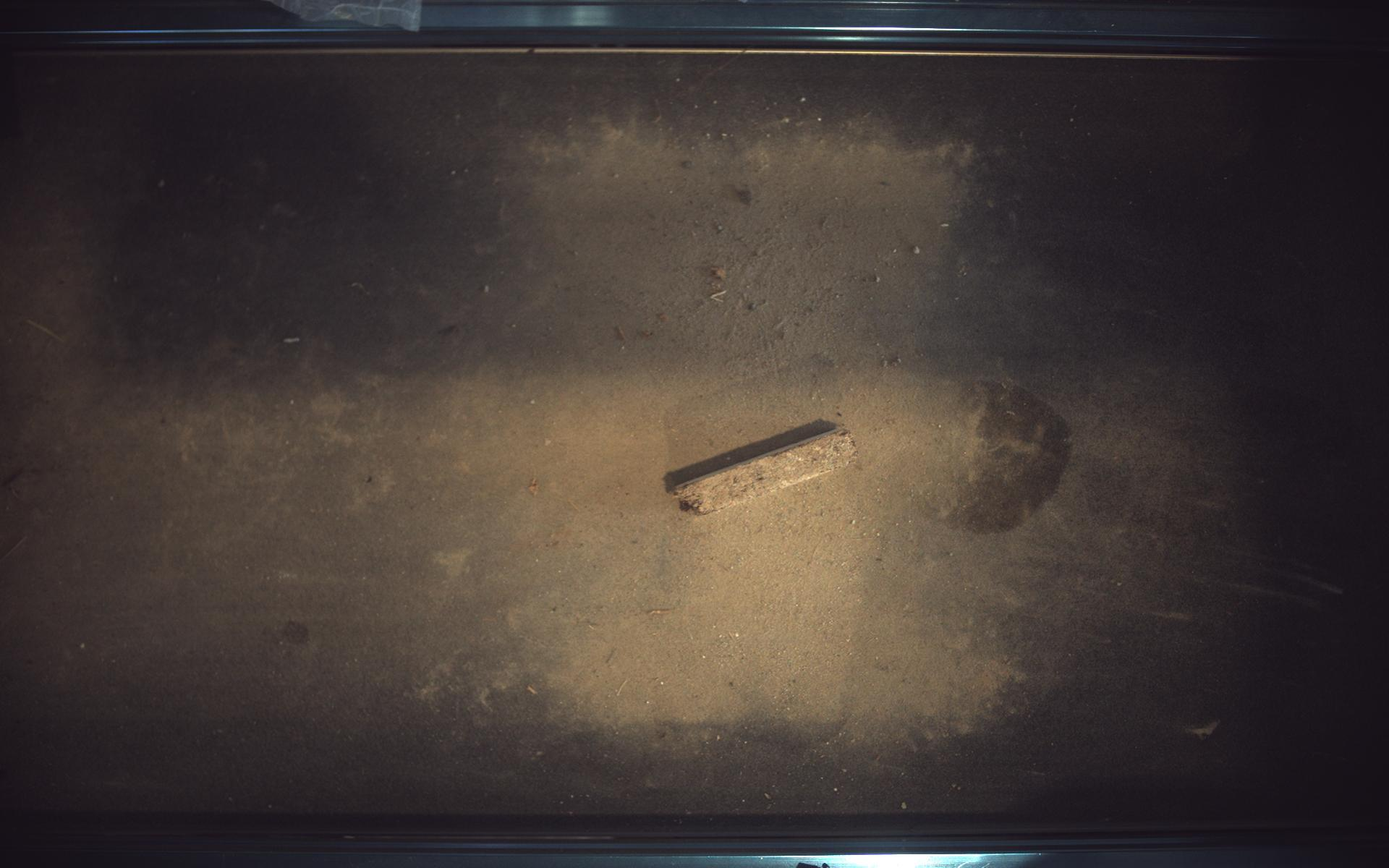wood: (667, 427, 857, 514)
